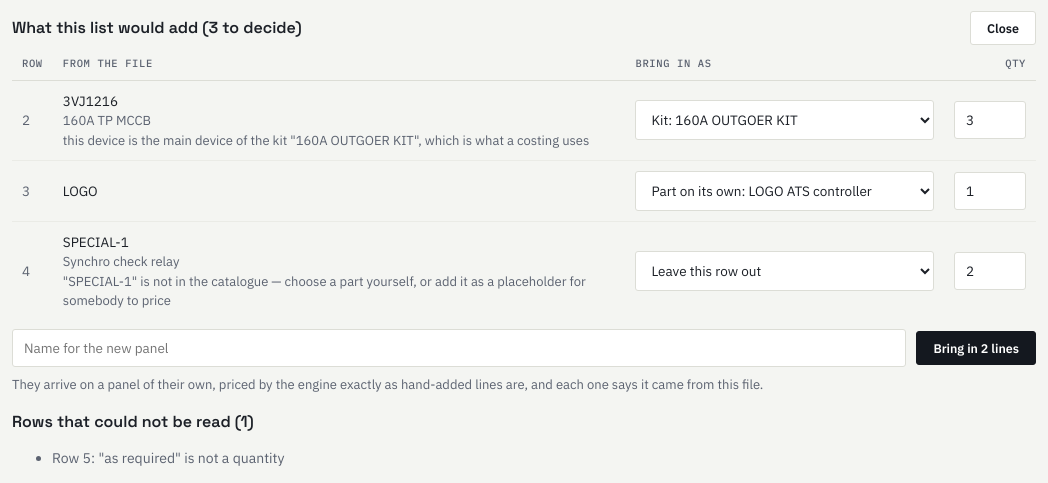
Test: the parts-list review › counts only the rows that will actually come in
Check: the button "Bring in 2 lines" is shown, box [916,331,1036,365]
Select "Leave this row out" in the dropdown named "What to do with LOGO" at (785, 191), box [636,171,934,211]
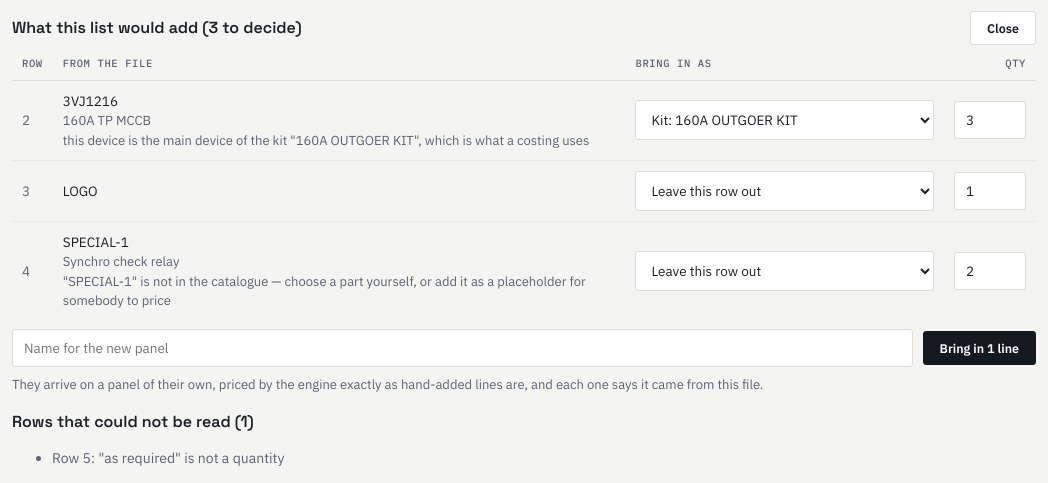
Check: the button "Bring in 1 line" is shown, box [923,331,1036,365]
